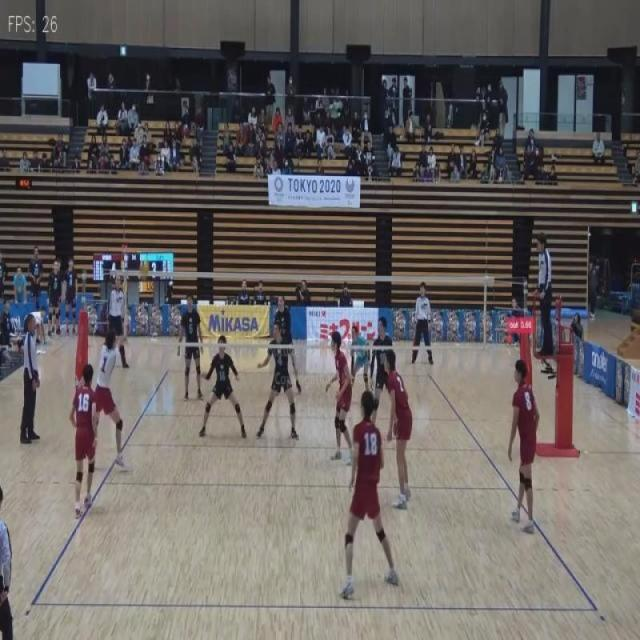volleyball: (139, 260, 150, 276)
